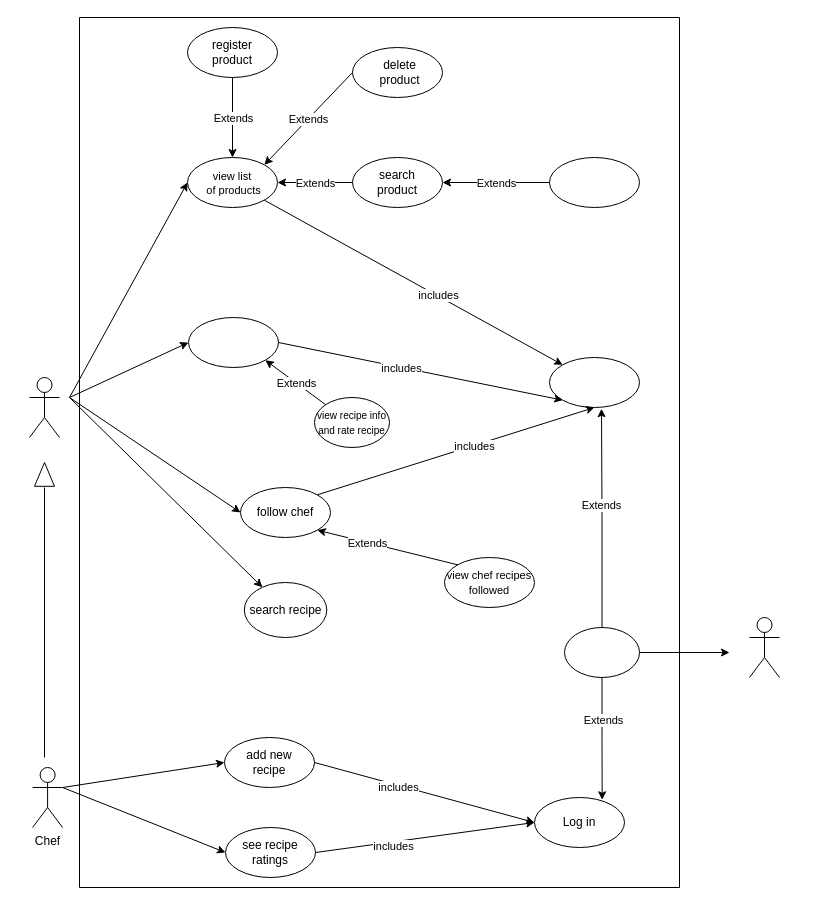
This 819x905 diagram has some shape labels left out. Here are the shapes that lost their labels. From the top down, the centre of each, then its label:
At (594,182): "select filter".
At (233,342): "generate recipe".
At (594,382): "Login".
At (44,407): "UserBasic".
At (602,652): "Login with Google".
At (764,647): "GOOGLE API".
